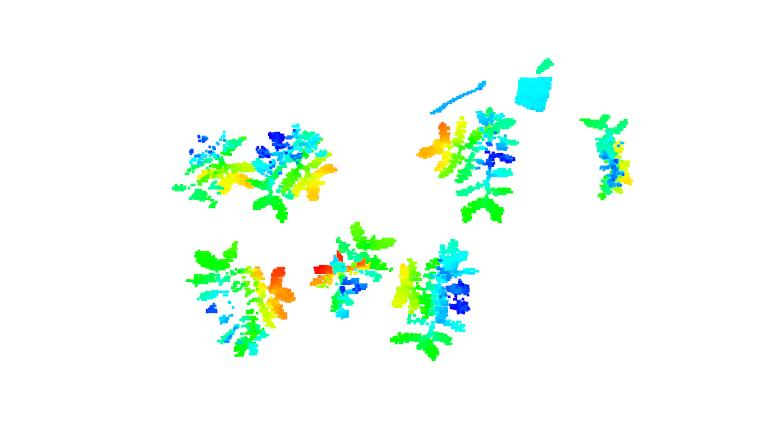chickpea: (188, 239, 297, 360), (423, 107, 518, 225), (395, 240, 479, 360), (248, 126, 337, 224), (307, 222, 395, 319), (171, 129, 251, 206), (576, 112, 636, 202)
